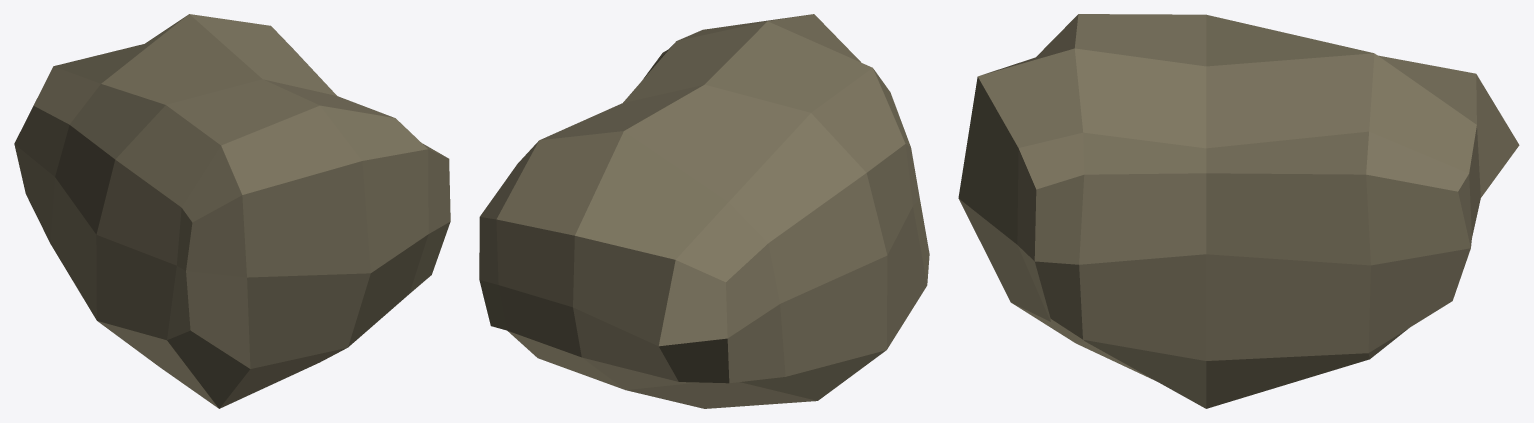
The model's file is asteroid.gltf.
3 views of the same model, side by side, from view 1: azimuth 30°, elevation 25°; view 2: azimuth 150°, elevation 25°; view 3: azimuth 270°, elevation 25° (orthographic). The views are drawn at different scales.
Visible parts, largest first — view 1: Cube; view 2: Cube; view 3: Cube.
Part boxes in pixels (<box>): Cube: <box>14,14,450,408</box>; Cube: <box>479,14,929,408</box>; Cube: <box>958,14,1519,408</box>.
Size of the model in its own units: 0.472 by 0.4893 by 0.6984.
